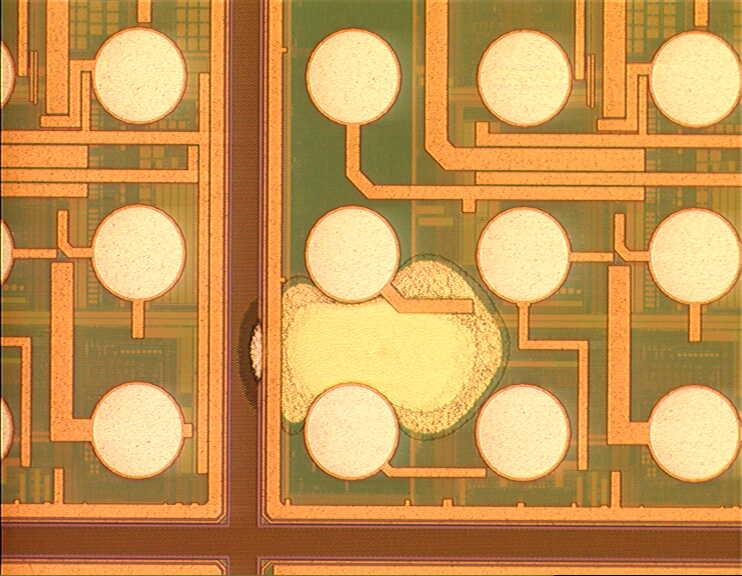BLOCK ETCH: (237, 248, 516, 444)
